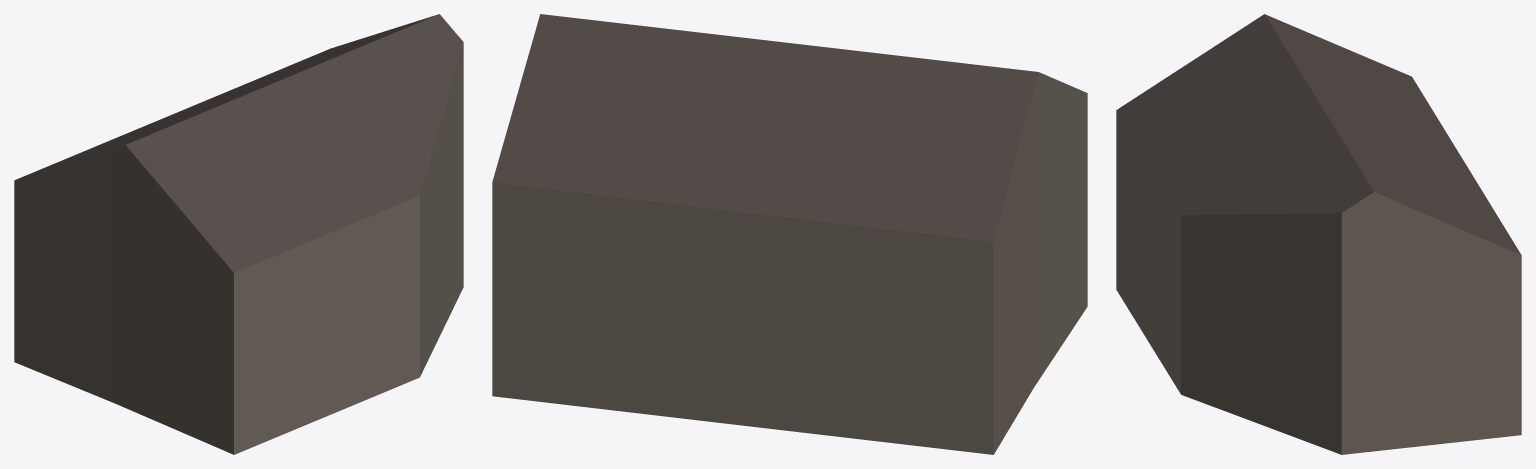
3 renders of one model, left to right at view 1: azimuth 30°, elevation 25°; view 2: azimuth 150°, elevation 25°; view 3: azimuth 270°, elevation 25°, orthographic. The views are drawn at different scales.
Parts seen in each view (by area): view 1: HP-w1200779096; view 2: HP-w1200779096; view 3: HP-w1200779096.
Part boxes in pixels (x1,y1,x2,y2): HP-w1200779096: (14,14,463,454); HP-w1200779096: (492,14,1087,454); HP-w1200779096: (1116,14,1521,454).
Bounding box in the file's own units: 21.41 × 13.02 × 18.44.
